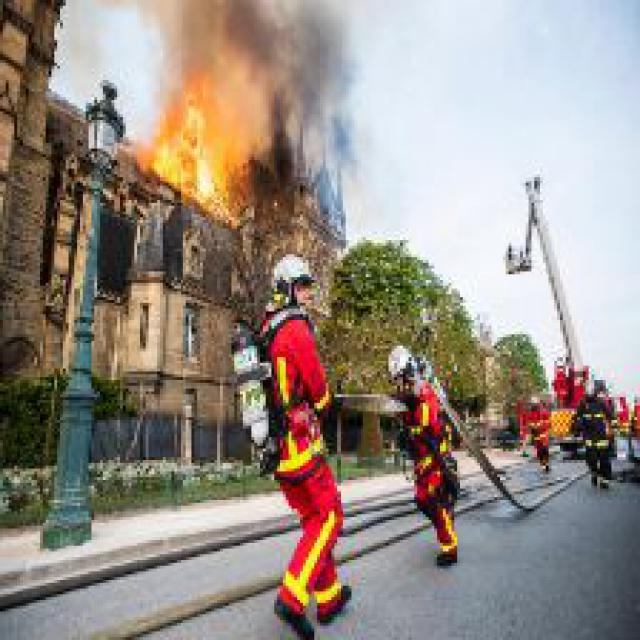fire: (140, 23, 254, 220)
